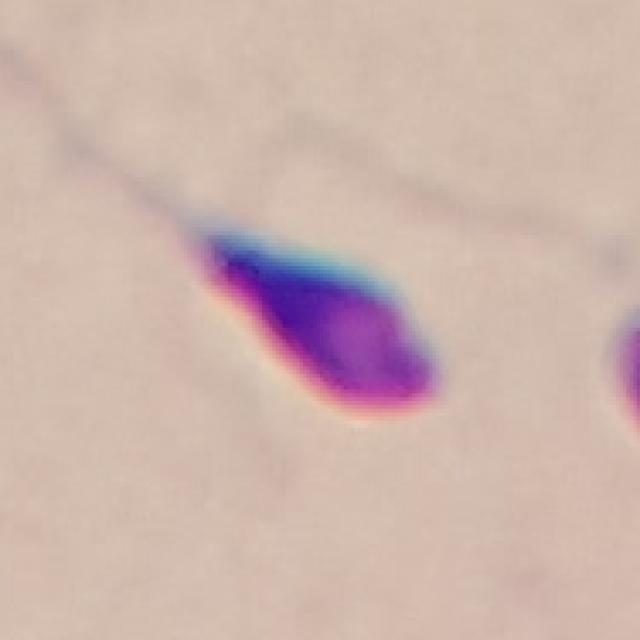abnormal sperm: (116, 167, 438, 418)
